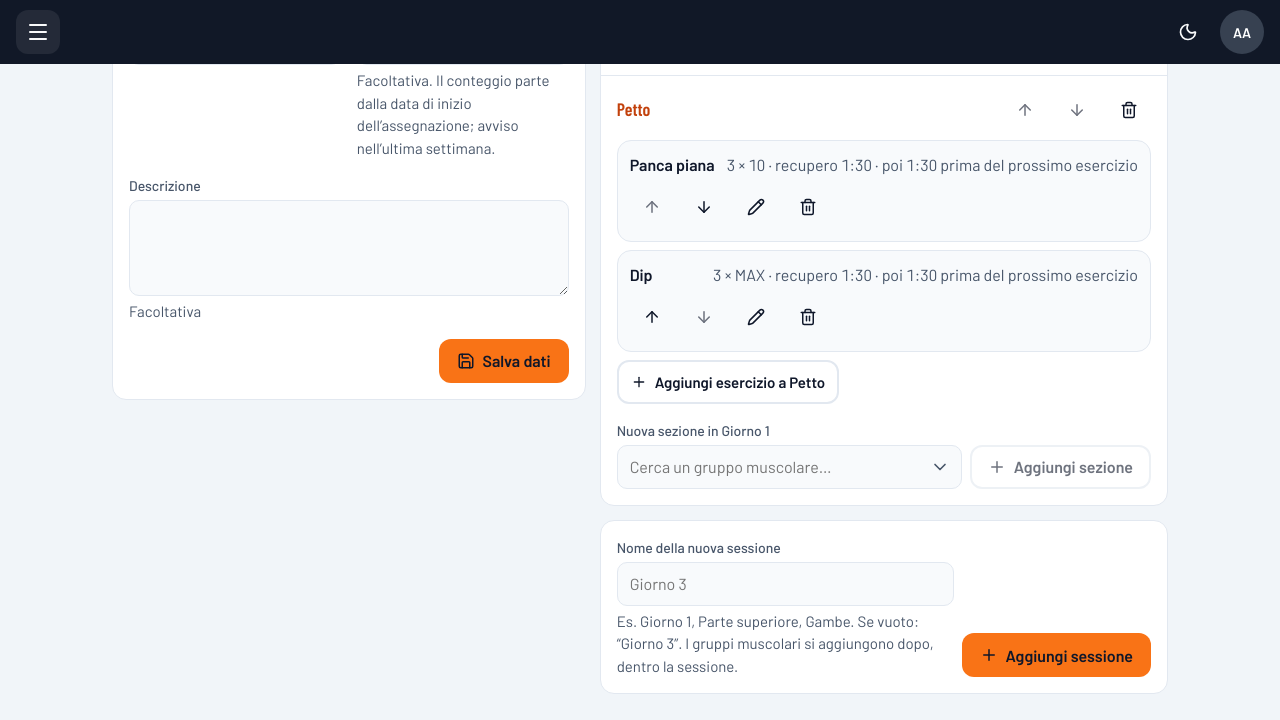
Test: flash after saving a plan › returns to the list with "Nuova scheda creata" after creating a plan
This screenshot has width=1280, height=720.
(page scrolled)
Click the button "Salva dati".
click(504, 361)  # box [439,339,569,383]
(page scrolled)
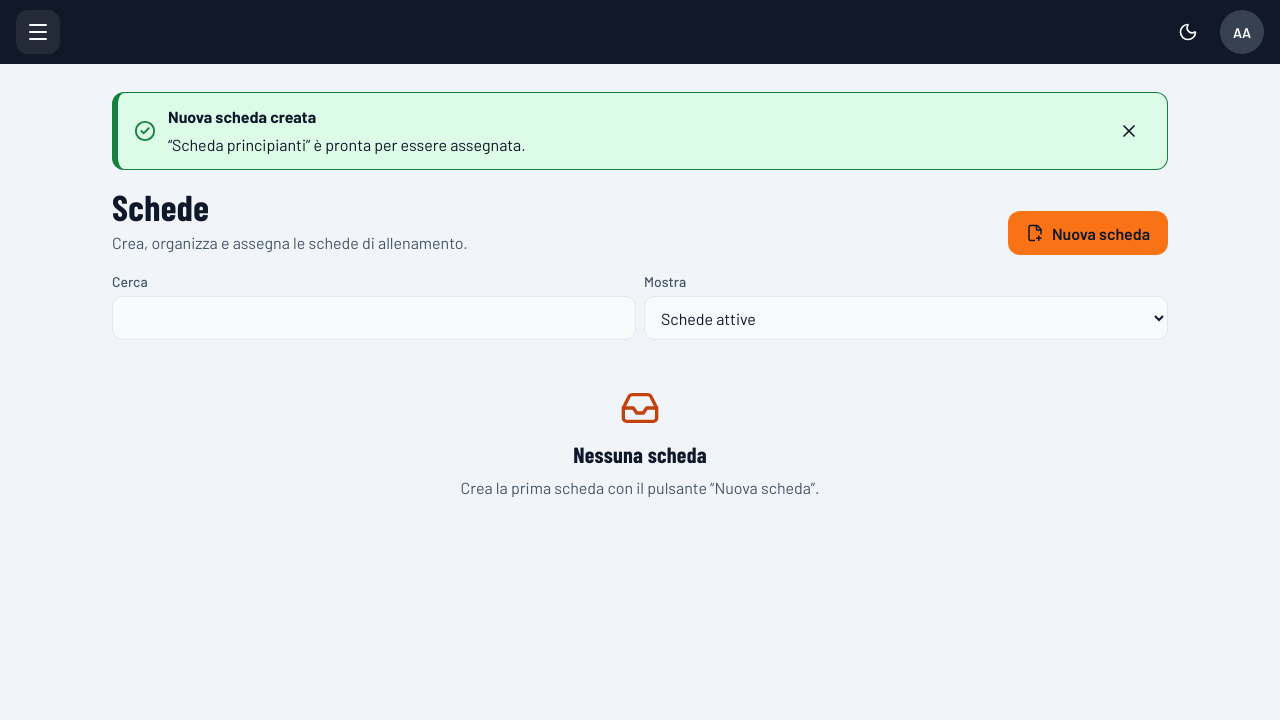
Expected: the text "Nuova scheda creata" is shown, [168,107,316,126]
Expected: the text "“Scheda principianti” è pronta per essere assegnata." is shown, [168,135,526,154]
